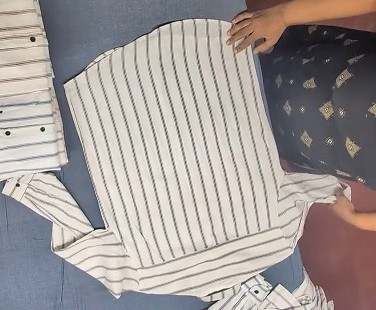SHIRT: (11, 67, 348, 263)
